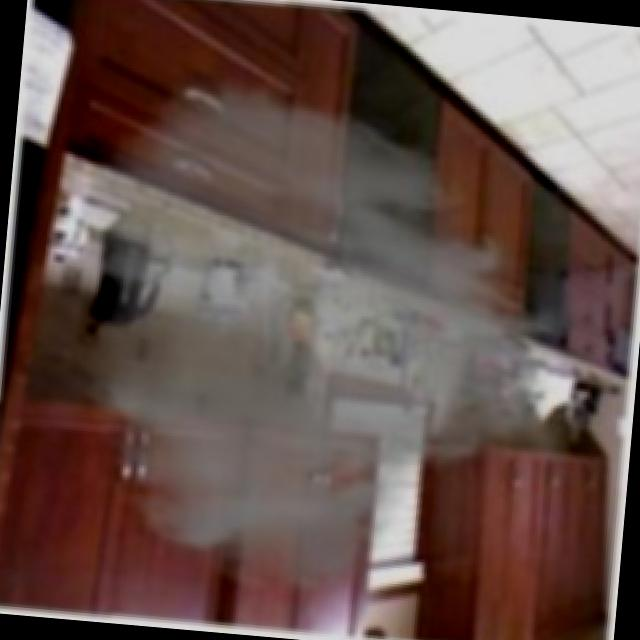smoke: (132, 167, 496, 512)
